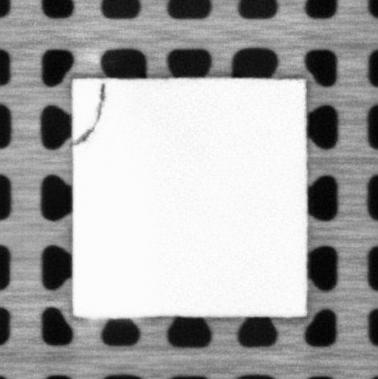DIE_INK: (74, 84, 106, 145)
